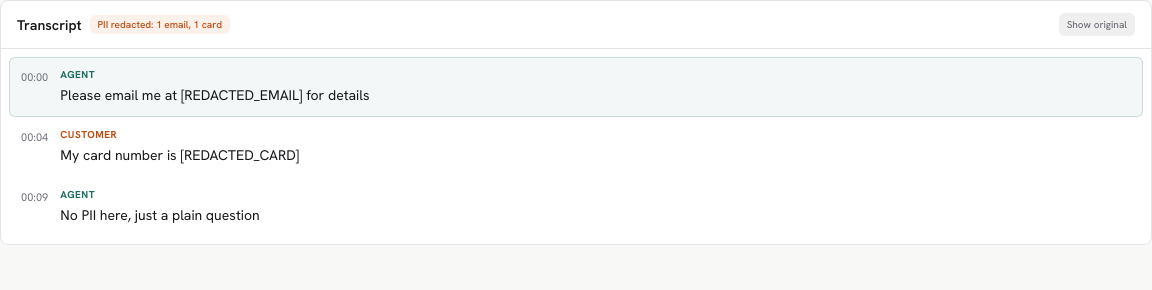
TranscriptPanel — redaction › toggling to 'Show original' reveals raw text
Click the button with test id "redaction-toggle": coordinates (1097, 24) [1059,13,1135,36]
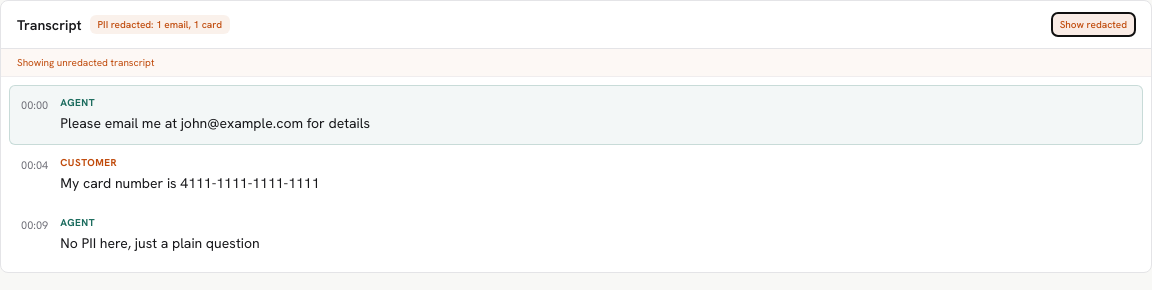
expect the text with test id "segment-text" shows "john@example.com": met, box [60,114,370,132]
expect the text with test id "segment-text" shows "4111-1111-1111-1111": met, box [60,174,320,192]
expect the element with test id "original-notice" is shown: met, box [1,49,1151,77]
